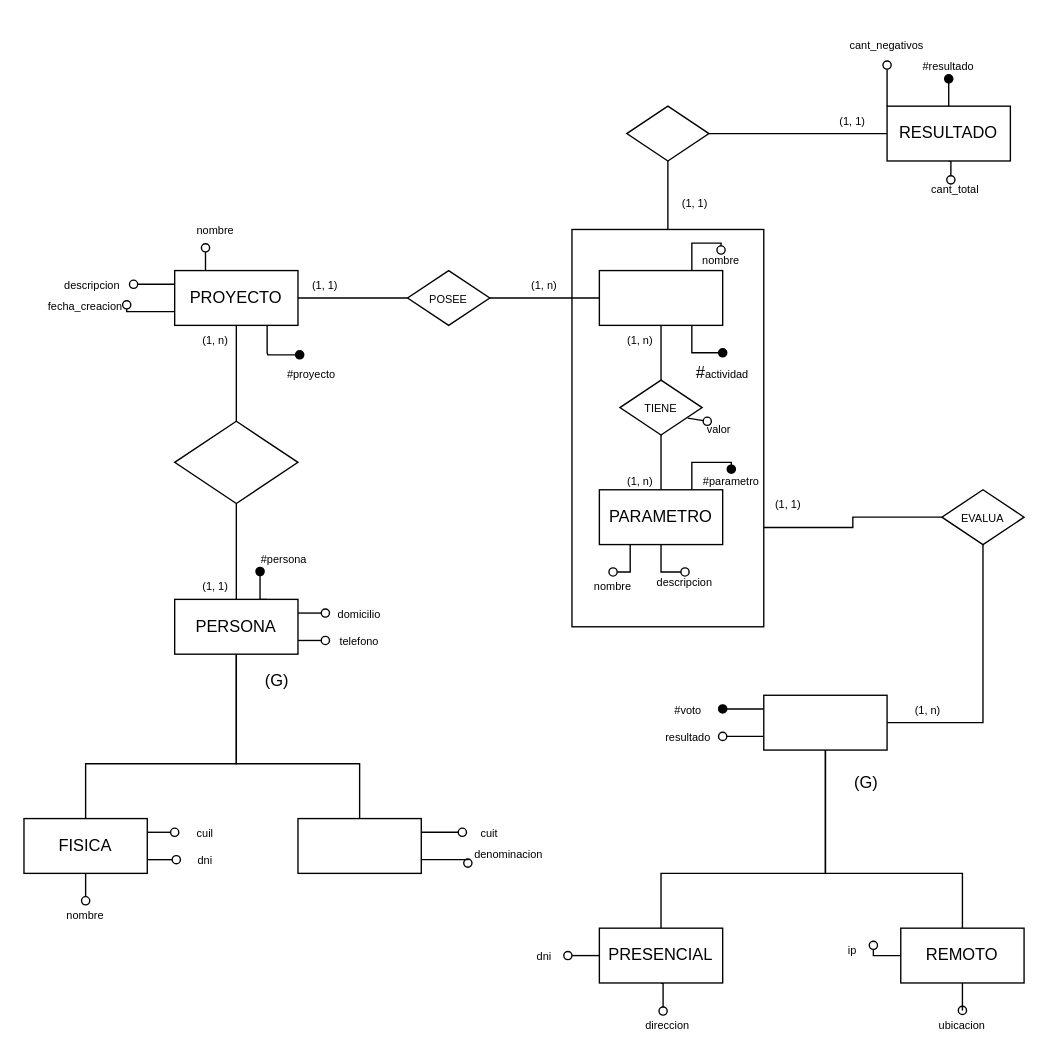
This 1048x1060 diagram has some shape labels left out. The centre of each missing label's shape, as x and y in pixels:
"ACTIVIDAD" belongs at (x=660, y=297).
"ES_RESPONSABLE" belongs at (x=235, y=461).
"JURIDICA" belongs at (x=359, y=845).
"OBTIENE" belongs at (x=667, y=133).
"VOTO" belongs at (x=824, y=722).
